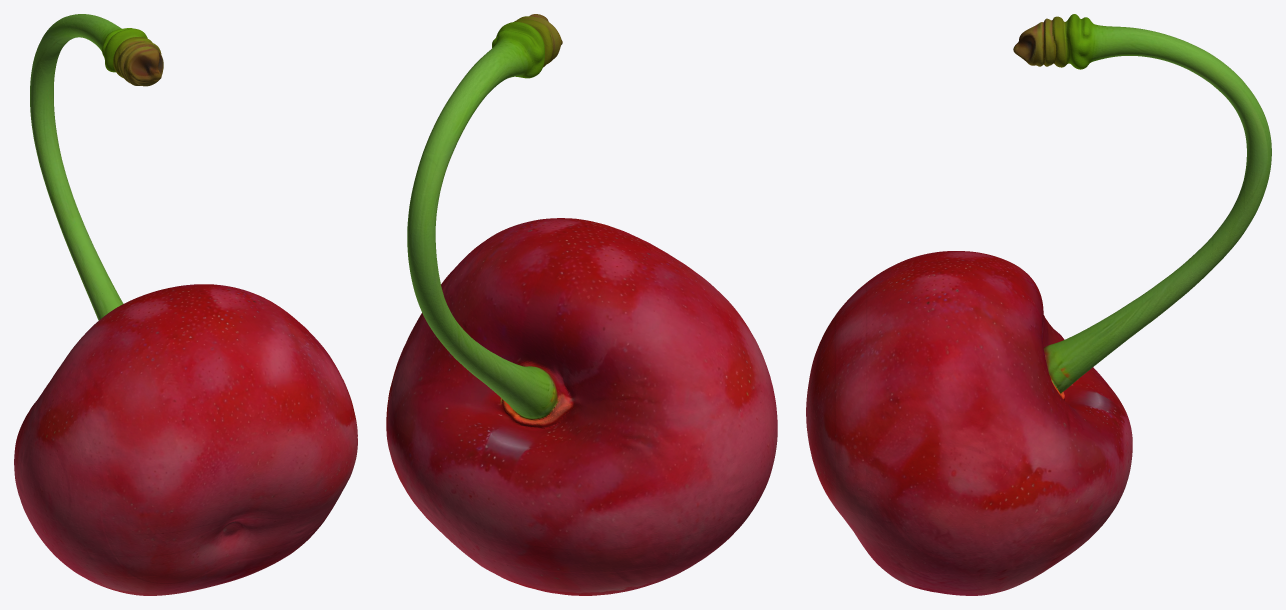
File: topping_cherry.glb
3 views of the same model, side by side, from view 1: azimuth 30°, elevation 25°; view 2: azimuth 150°, elevation 25°; view 3: azimuth 270°, elevation 25° (orthographic). The views are drawn at different scales.
Visible parts, largest first — view 1: tripo_node_e96b186e-d3ec-4a89-9dce-a176e3e340ba; view 2: tripo_node_e96b186e-d3ec-4a89-9dce-a176e3e340ba; view 3: tripo_node_e96b186e-d3ec-4a89-9dce-a176e3e340ba.
Part boxes in pixels (x1,y1,x2,y2): tripo_node_e96b186e-d3ec-4a89-9dce-a176e3e340ba: (14,14,357,595); tripo_node_e96b186e-d3ec-4a89-9dce-a176e3e340ba: (386,14,777,595); tripo_node_e96b186e-d3ec-4a89-9dce-a176e3e340ba: (806,14,1271,595).
Bounding box in the file's own units: 0.6131 × 1 × 0.7633.
Materials: 1 (1 with a texture image).
